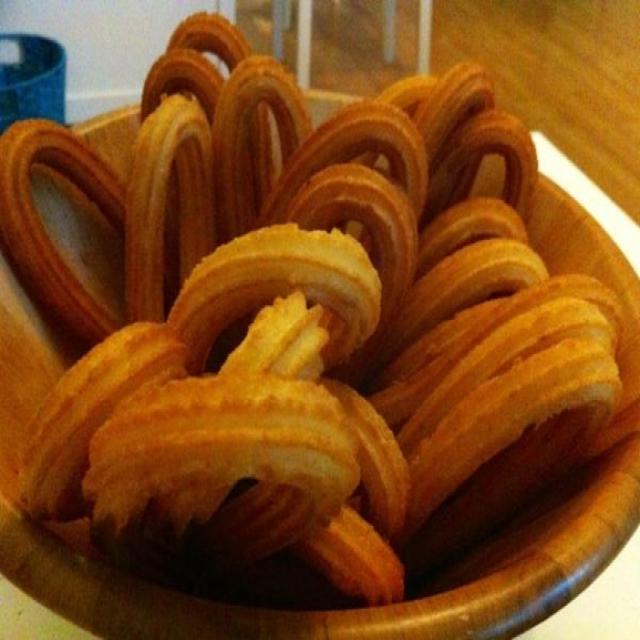炸货点心: (41, 41, 598, 586)
